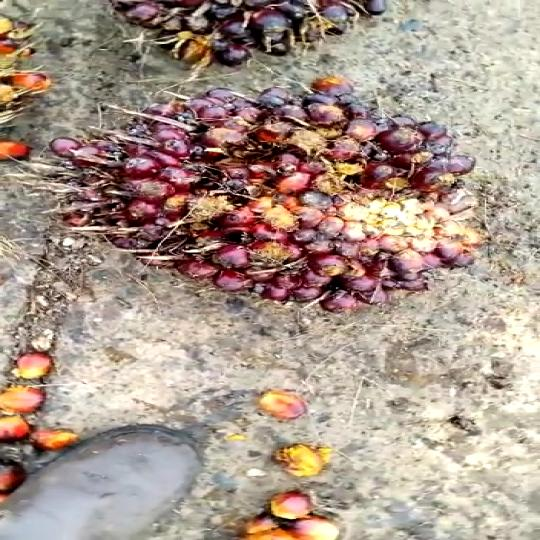masak: (48, 0, 491, 317)
